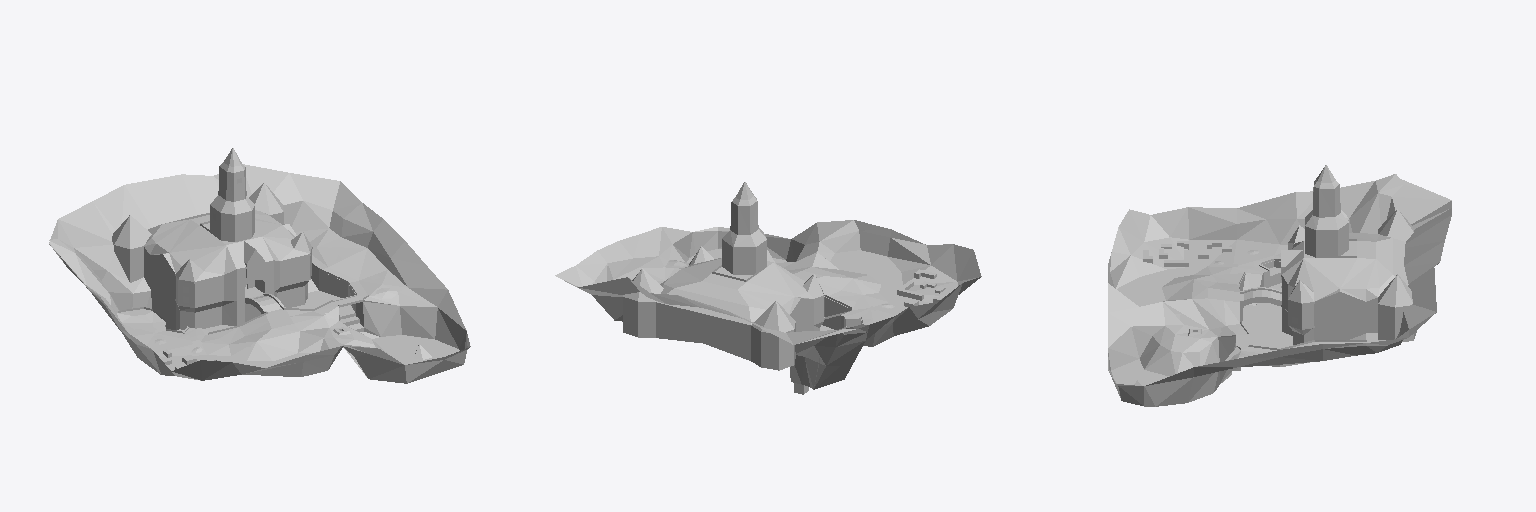
The model's file is Peach's Castle.obj.
3 views of the same model, side by side, from view 1: azimuth 30°, elevation 25°; view 2: azimuth 150°, elevation 25°; view 3: azimuth 270°, elevation 25° (orthographic).
Visible parts, largest first — view 1: r0-node_r0-mesh.021; view 2: r0-node_r0-mesh.021; view 3: r0-node_r0-mesh.021.
Boxes of the visible parts, x1,y1,x2,y2 form: r0-node_r0-mesh.021: [49, 148, 470, 383]; r0-node_r0-mesh.021: [555, 182, 981, 394]; r0-node_r0-mesh.021: [1108, 165, 1451, 406].
Size of the model in its own units: 16 by 9.43 by 16.